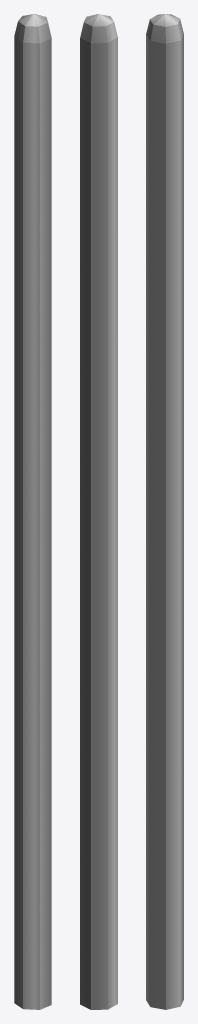
Rendered from MetalPoleFenceShort.fbx.
The picture shows the model from 3 angles, left to right: view 1: azimuth 90°, elevation 25°; view 2: azimuth 150°, elevation 25°; view 3: azimuth 330°, elevation 25°; orthographic projection.
Visible parts, largest first — view 1: Cylinder#2, Cylinder#3; view 2: Cylinder#2, Cylinder#3; view 3: Cylinder#2, Cylinder#3.
Boxes of the visible parts, x1,y1,x2,y2 form: Cylinder#2: [14, 14, 51, 1009]; Cylinder#3: [14, 15, 51, 1008]; Cylinder#2: [80, 14, 117, 1009]; Cylinder#3: [80, 17, 117, 1009]; Cylinder#2: [146, 14, 183, 1009]; Cylinder#3: [146, 15, 182, 1003].
Size of the model in its own units: 0.1363 by 3.95 by 0.1363.
1 material, 1 textured.
